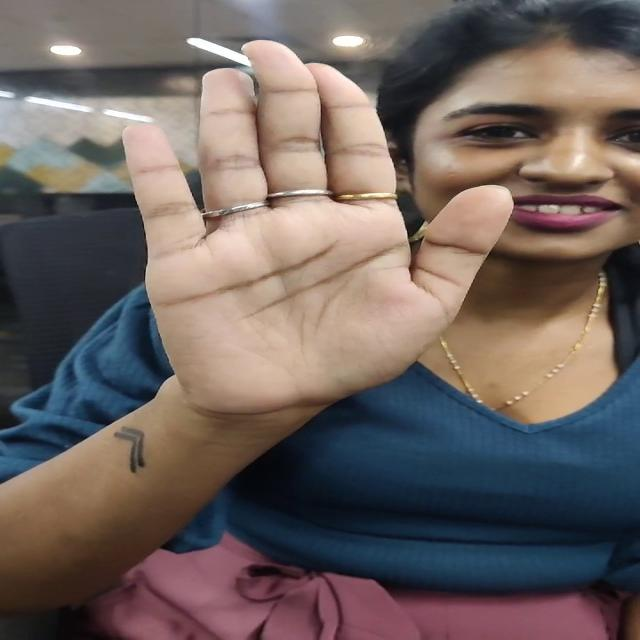no-gloves: (63, 21, 538, 423)
